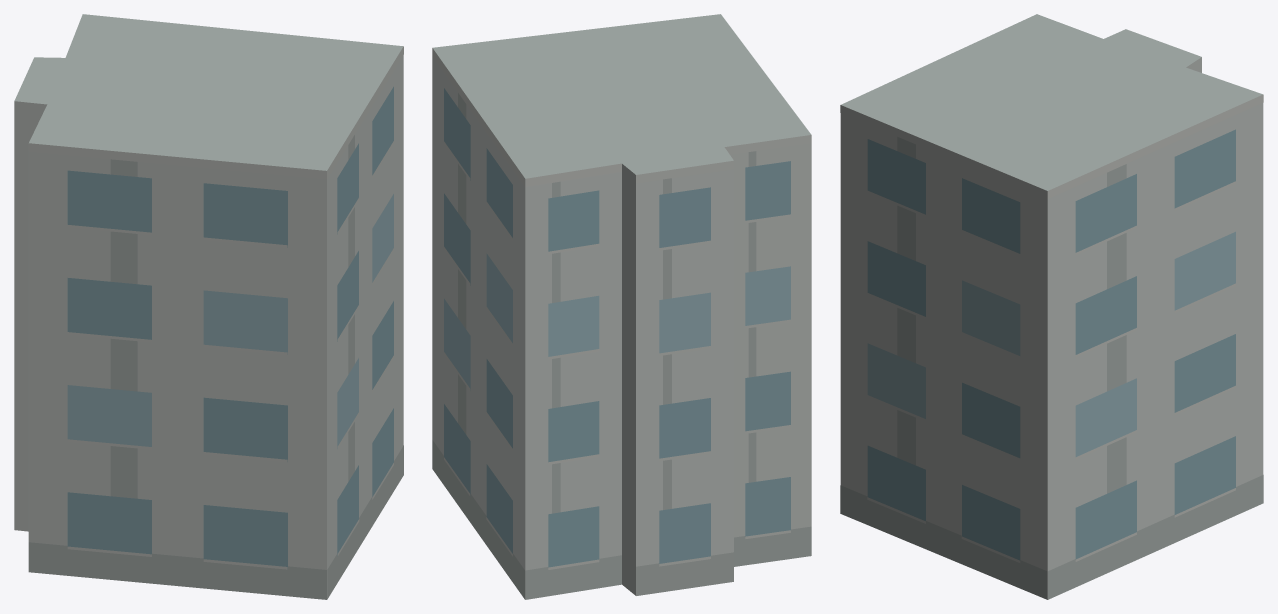
File: residential-29bbaf63-3bb4-4d68-bfd4-8eeab8e77513.glb
3 renders of one model, left to right at view 1: azimuth 30°, elevation 25°; view 2: azimuth 150°, elevation 25°; view 3: azimuth 270°, elevation 25°, orthographic. The views are drawn at different scales.
Visible parts, largest first — view 1: residential-29bbaf63-3bb4-4d68-bfd4-8eeab8e77513.tmp; view 2: residential-29bbaf63-3bb4-4d68-bfd4-8eeab8e77513.tmp; view 3: residential-29bbaf63-3bb4-4d68-bfd4-8eeab8e77513.tmp.
Boxes of the visible parts, box(x1,y1,x2,y2) form: residential-29bbaf63-3bb4-4d68-bfd4-8eeab8e77513.tmp: box(14, 14, 403, 599); residential-29bbaf63-3bb4-4d68-bfd4-8eeab8e77513.tmp: box(432, 14, 811, 599); residential-29bbaf63-3bb4-4d68-bfd4-8eeab8e77513.tmp: box(840, 14, 1263, 599).
Bounding box in the file's own units: 11.34 × 12.2 × 11.44.
